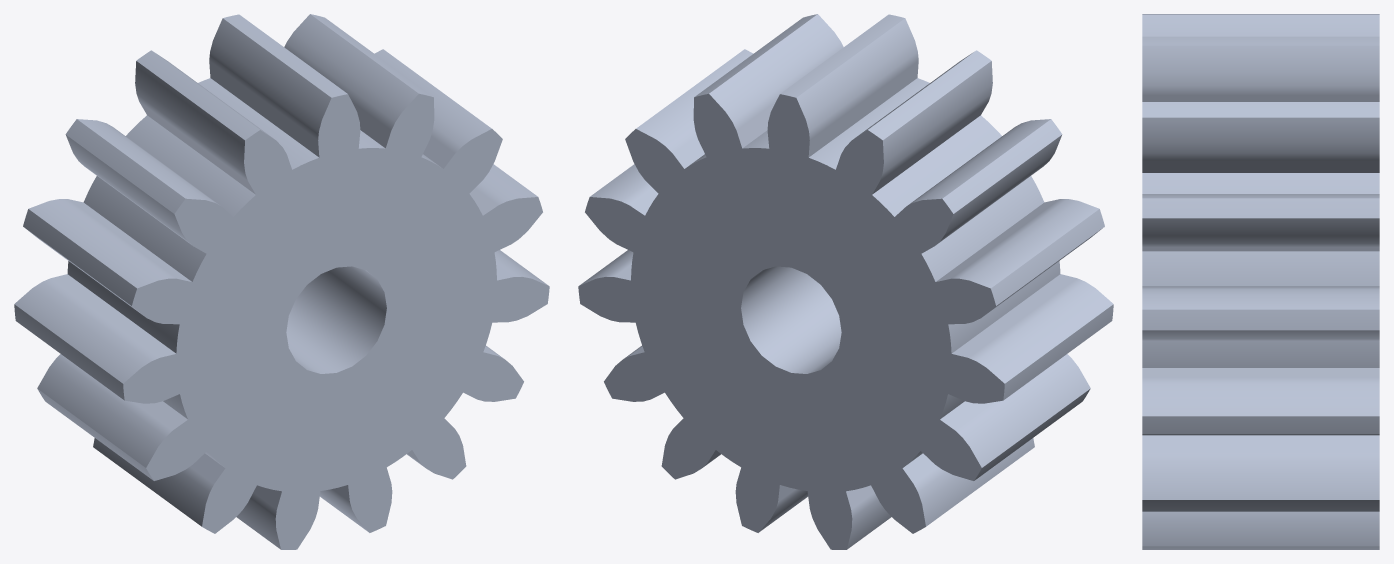
The picture shows the model from 3 angles, left to right: view 1: azimuth 30°, elevation 25°; view 2: azimuth 150°, elevation 25°; view 3: azimuth 270°, elevation 25°; orthographic projection. The views are drawn at different scales.
Visible parts, largest first — view 1: 齿轮2模15齿 厚15; view 2: 齿轮2模15齿 厚15; view 3: 齿轮2模15齿 厚15.
Boxes of the visible parts, x1,y1,x2,y2 form: 齿轮2模15齿 厚15: [14, 14, 549, 549]; 齿轮2模15齿 厚15: [578, 14, 1113, 549]; 齿轮2模15齿 厚15: [1142, 14, 1379, 549].
Bounding box in the file's own units: 3.39 × 3.38 × 1.5.
